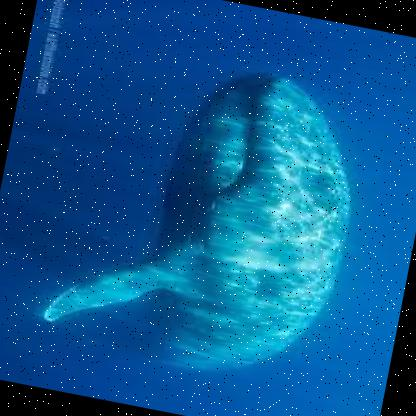blue_whale: (25, 23, 396, 400)
